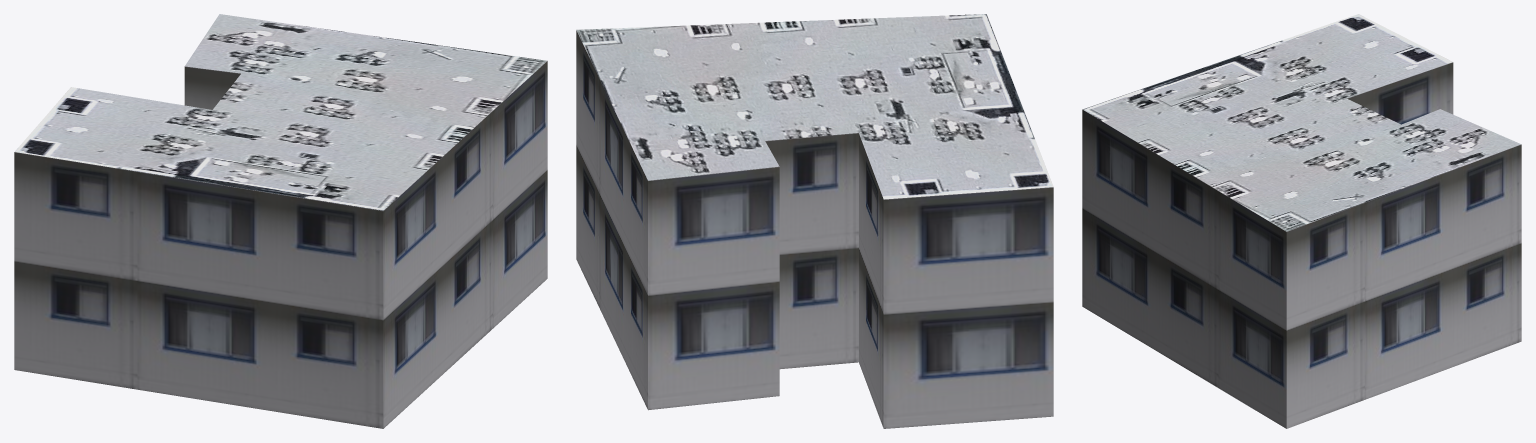
File: ResTex__6.fbx
3 renders of one model, left to right at view 1: azimuth 30°, elevation 25°; view 2: azimuth 150°, elevation 25°; view 3: azimuth 270°, elevation 25°, orthographic. The views are drawn at different scales.
Parts seen in each view (by area): view 1: CityEngineMaterial_9_m, CityEngineMaterial_8_m; view 2: CityEngineMaterial_9_m, CityEngineMaterial_8_m; view 3: CityEngineMaterial_9_m, CityEngineMaterial_8_m.
Part boxes in pixels (box(x1,y1,x2,y2)): CityEngineMaterial_9_m: box(14, 61, 547, 428); CityEngineMaterial_8_m: box(15, 14, 546, 210); CityEngineMaterial_9_m: box(576, 30, 1053, 428); CityEngineMaterial_8_m: box(576, 14, 1053, 199); CityEngineMaterial_9_m: box(1082, 62, 1521, 428); CityEngineMaterial_8_m: box(1082, 14, 1521, 231).
Size of the model in its own units: 14.21 by 6 by 12.11.
Materials: 2 (2 with a texture image).
